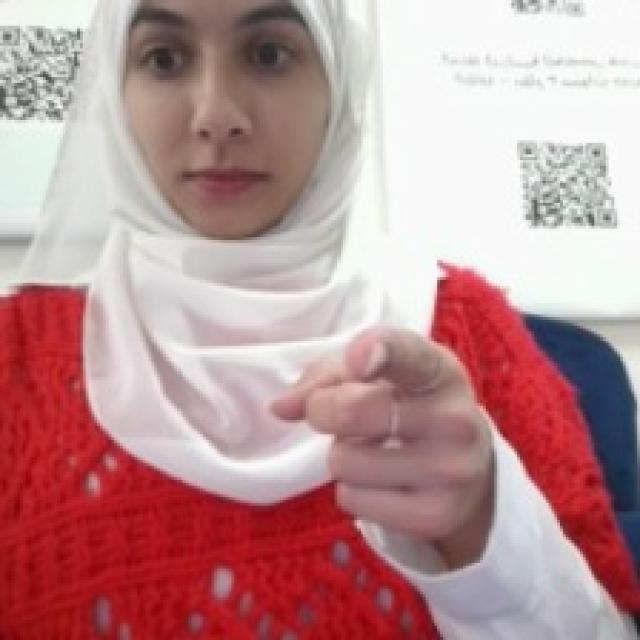you: (263, 314, 494, 549)
